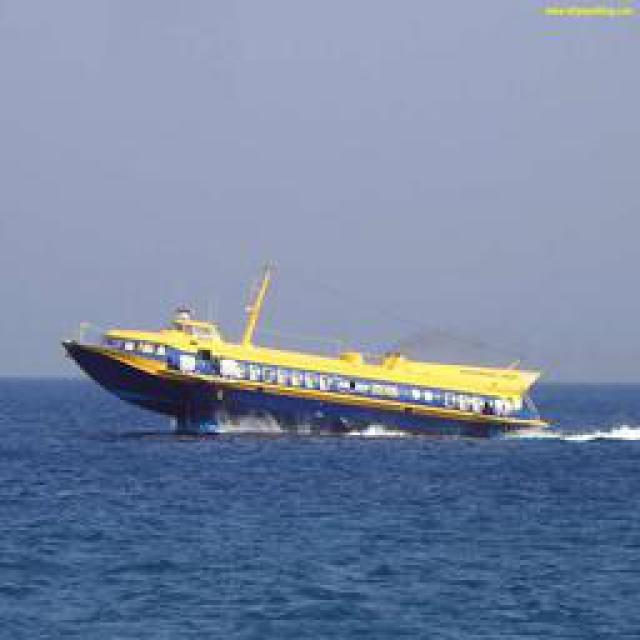Ship: (61, 266, 546, 439)
